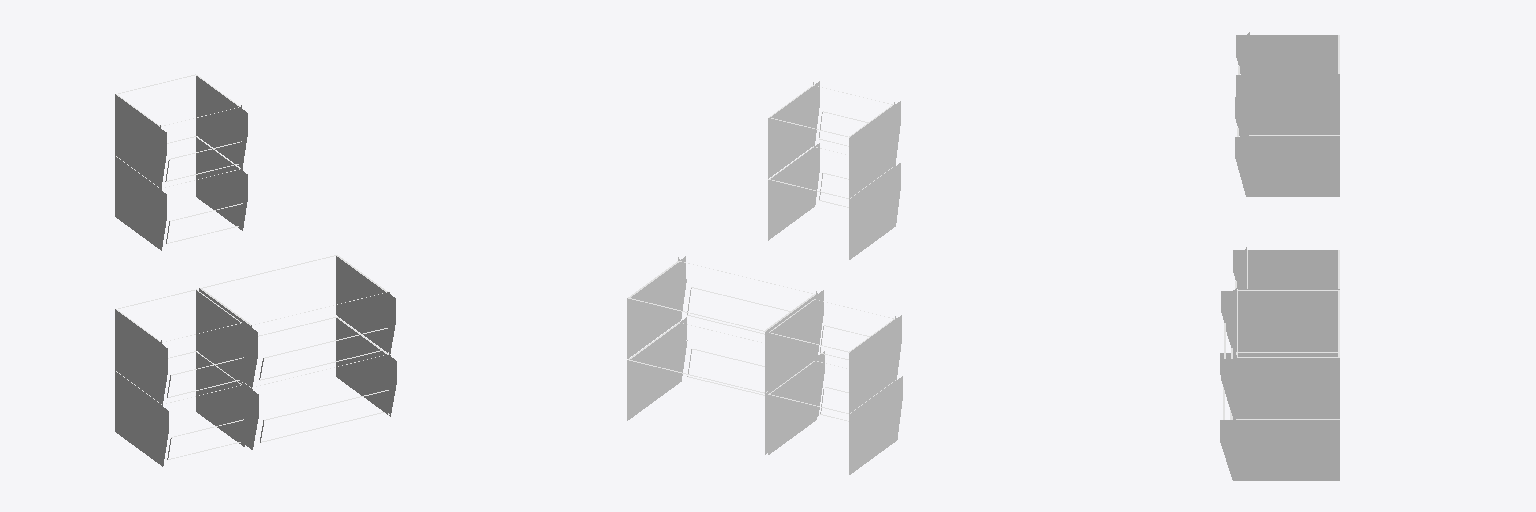
File: fridge_neg1_1.obj
The picture shows the model from 3 angles: view 1: azimuth 30°, elevation 25°; view 2: azimuth 150°, elevation 25°; view 3: azimuth 270°, elevation 25°; orthographic projection.
Size of the model in its own units: 45.75 by 67.16 by 21.23.